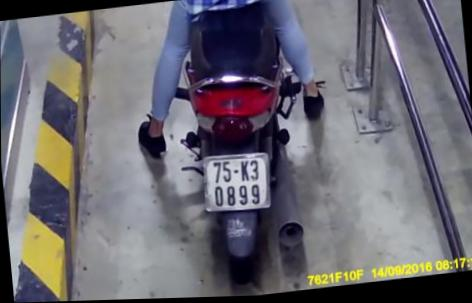LP: (200, 149, 275, 219)
